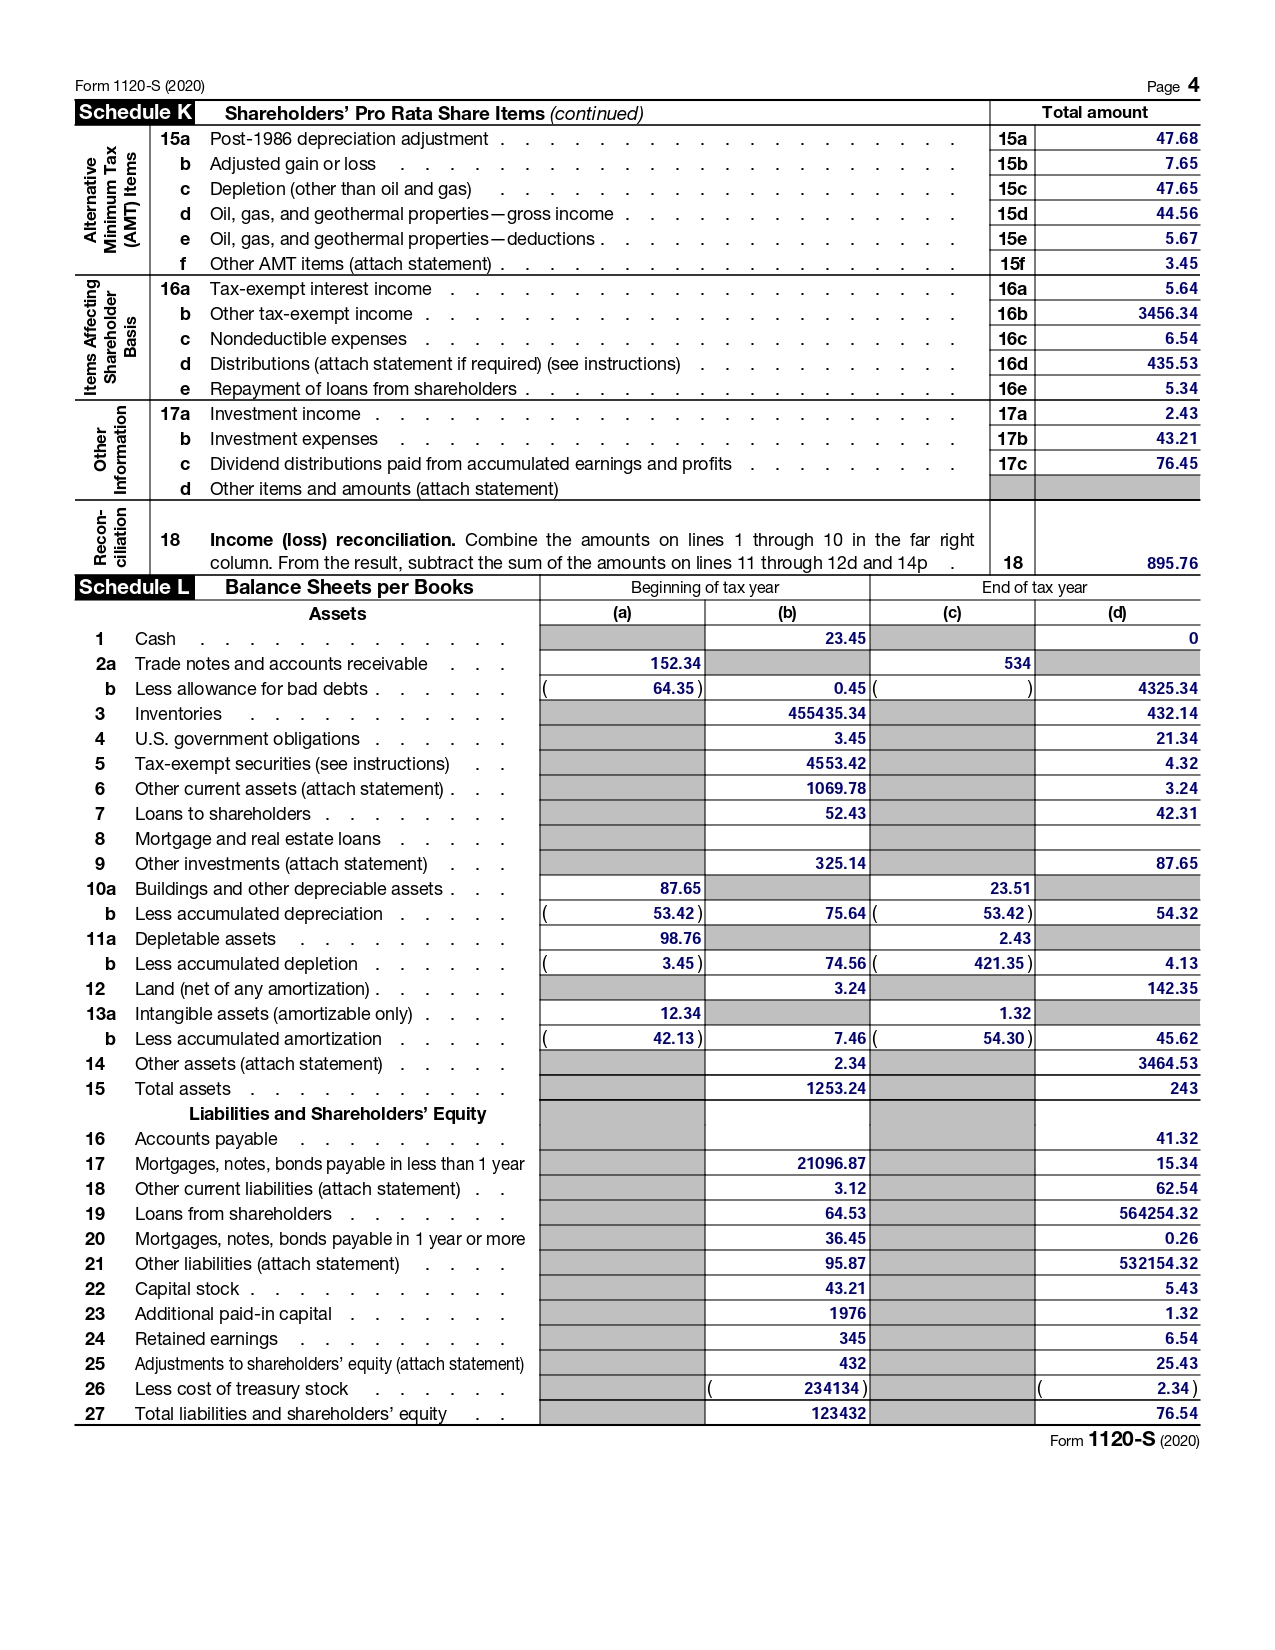table: (66, 576, 1220, 1429), (70, 98, 1227, 575)
